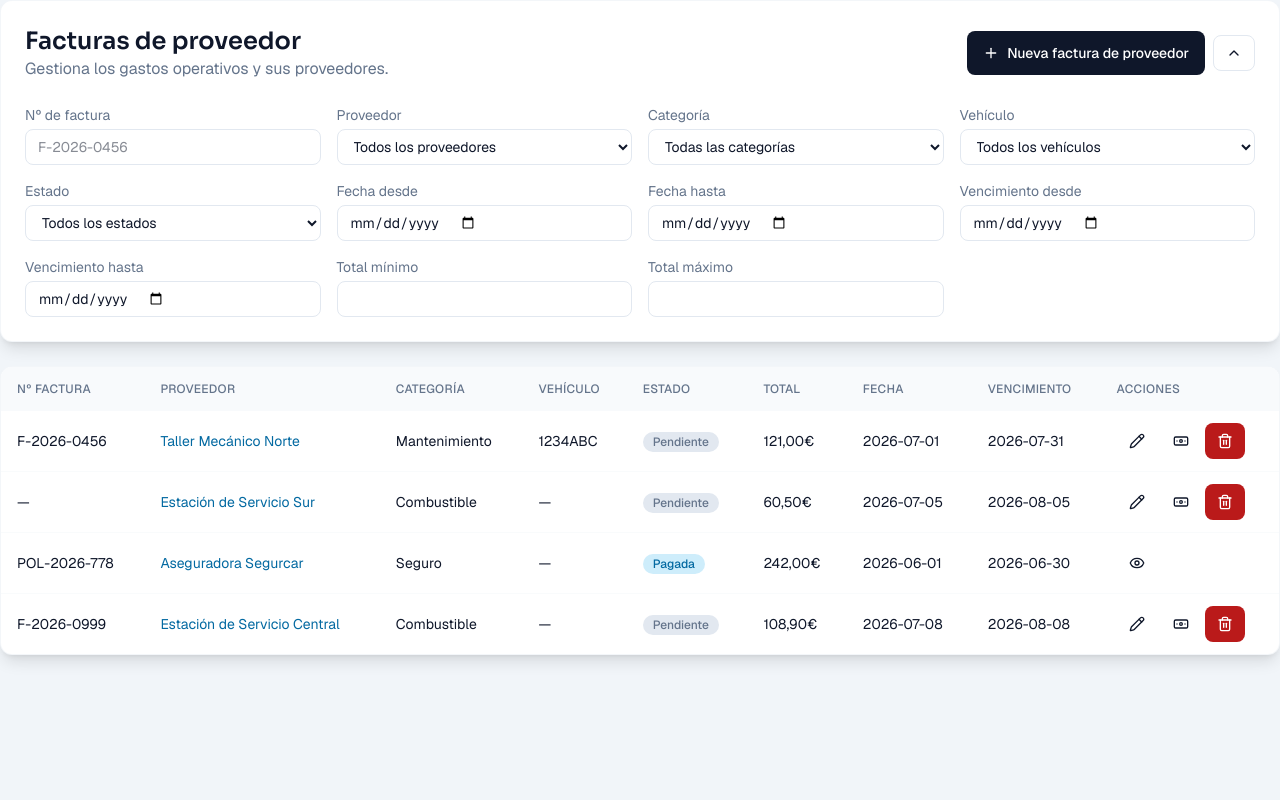
it: SupplierInvoices › narrows the supplier invoice list with the invoice number search
Expected: the button "Taller Mecánico Norte" is shown, 160,431 -> 300,451
Type "0456" into the field named "buscar por número de factura".
click(173, 147); type("0456")  # box 25,129 -> 320,165
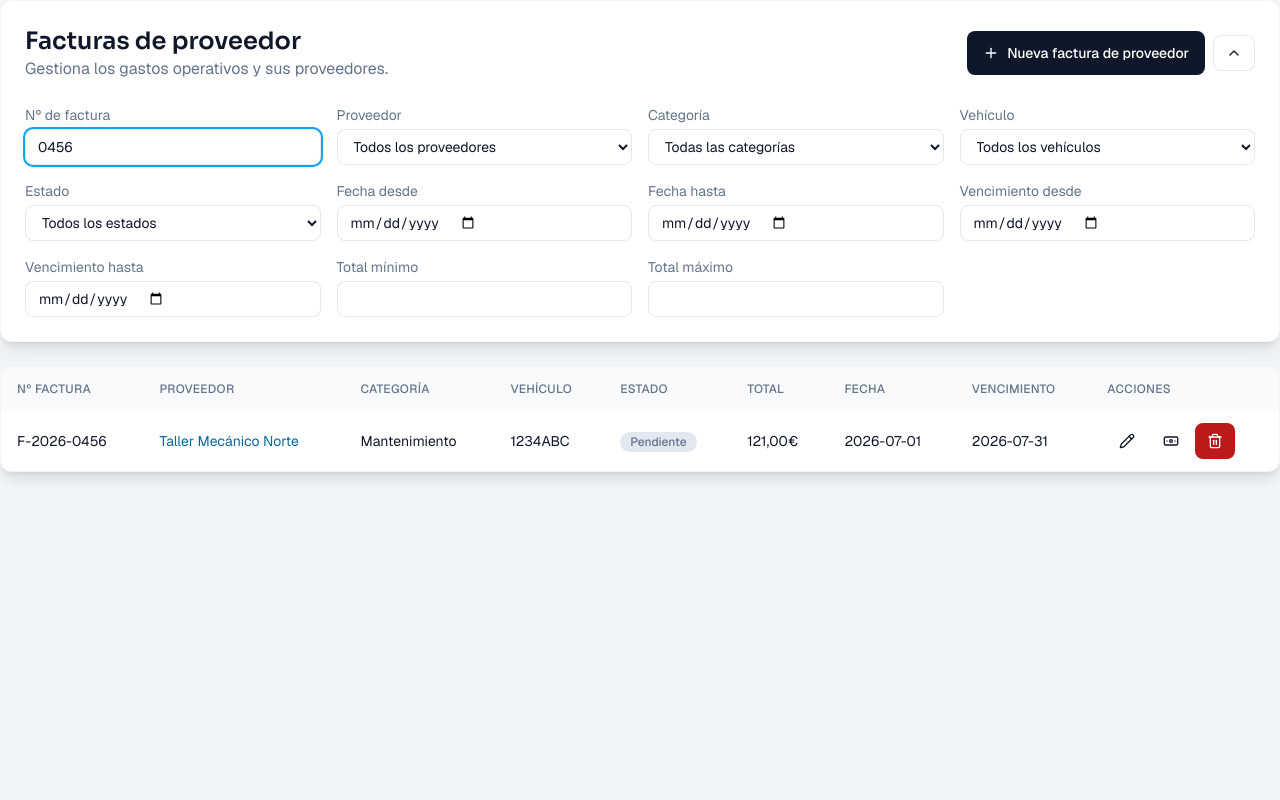
Expected: the button "Taller Mecánico Norte" is shown, 159,431 -> 299,451
Result: the button "Estación de Servicio Sur" is gone
